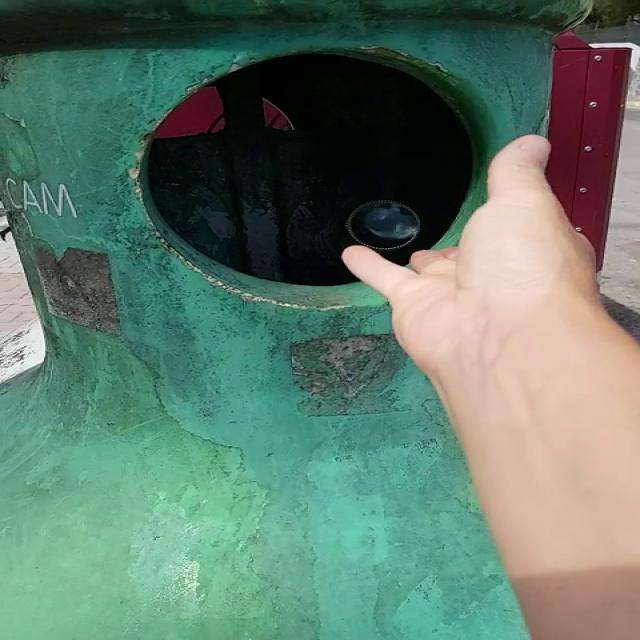glass: (347, 201, 421, 251)
